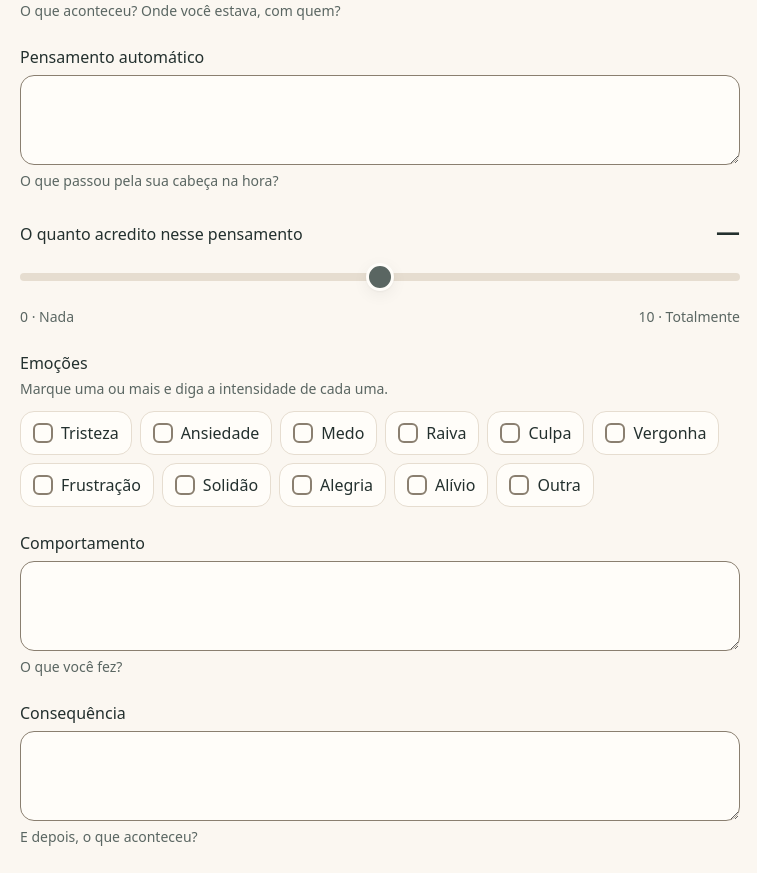
Scenario: /pensamentos/novo › emoção marcada pede intensidade, e "outra" pede o nome
The image size is (757, 873).
(page scrolled)
Click the checkbox labelled "Medo". click: (303, 433)
box: [293,423,313,443]
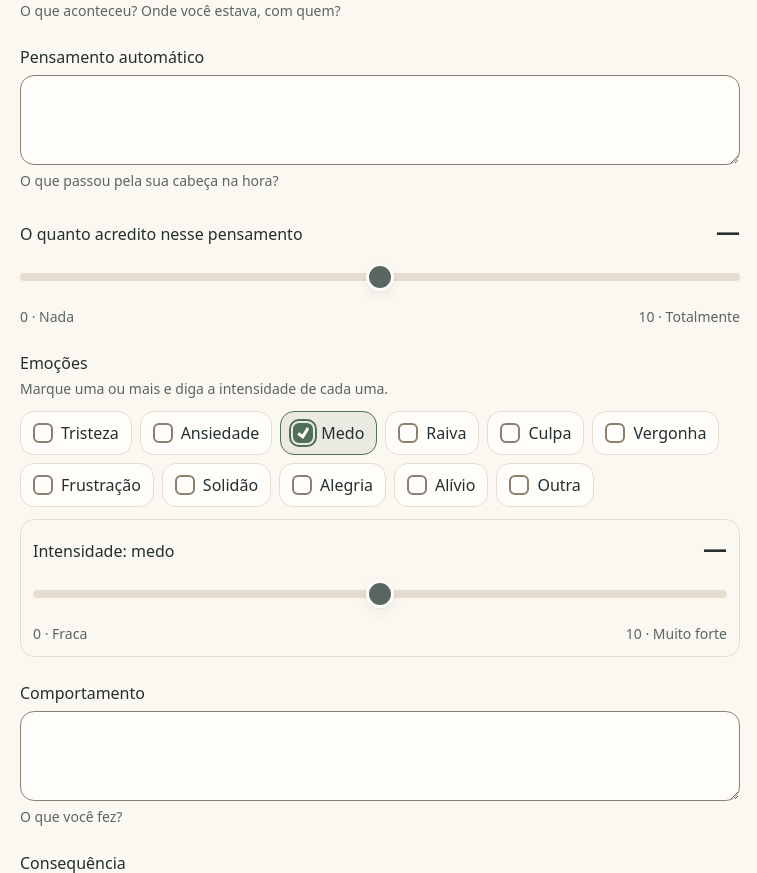
Click the checkbox labelled "Outra". click: (519, 485)
box: [509,475,529,495]
(page scrolled)
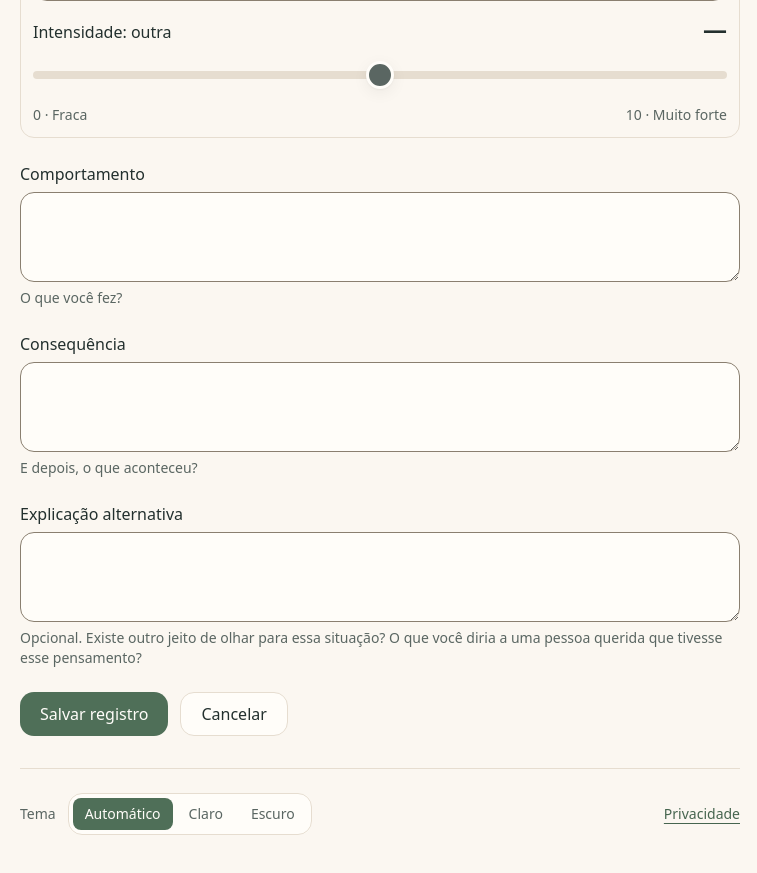
Click the button "Salvar registro". click: (94, 714)
box: [20,692,168,736]
(page scrolled)
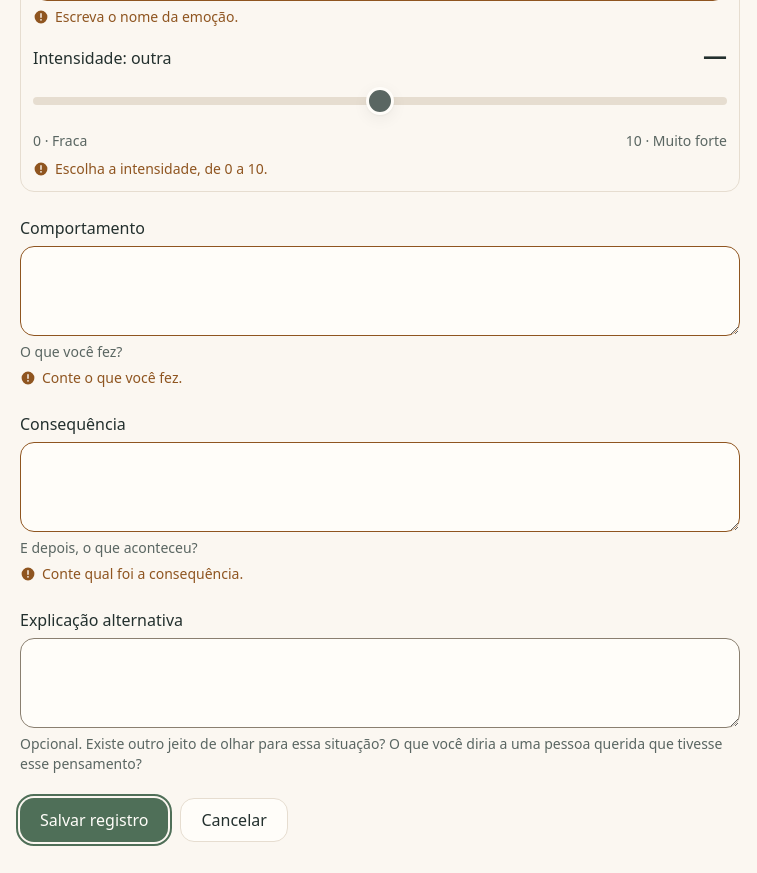
Now the text "Escolha a intensidade, de 0 a 10." is shown 2 times
Now the text "Escreva o nome da emoção." is shown, box [55,7,238,27]
